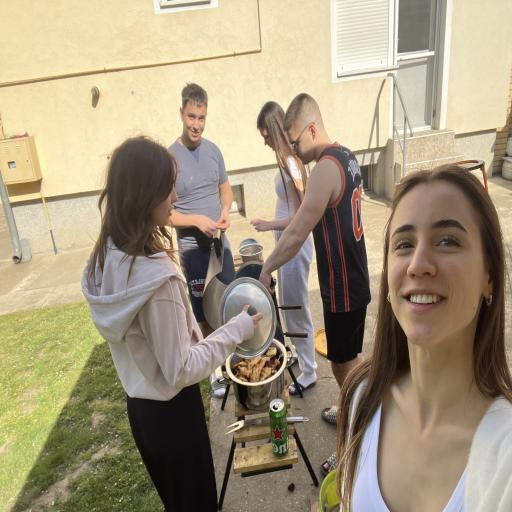masa: (387, 172, 484, 344)
